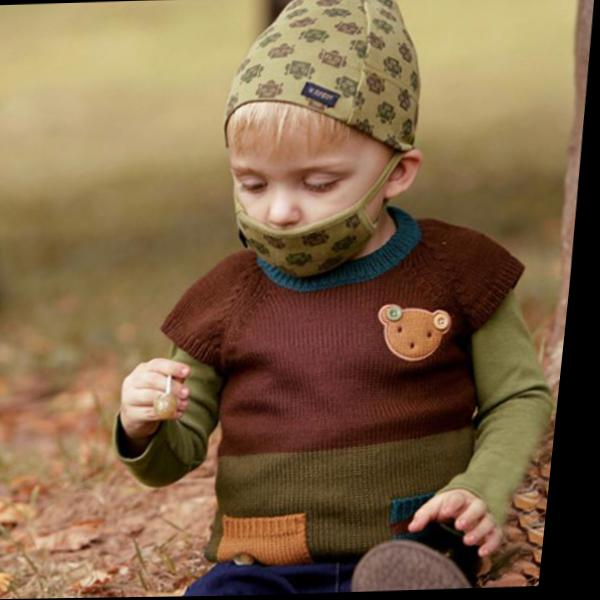WRONG: (233, 146, 380, 275)
